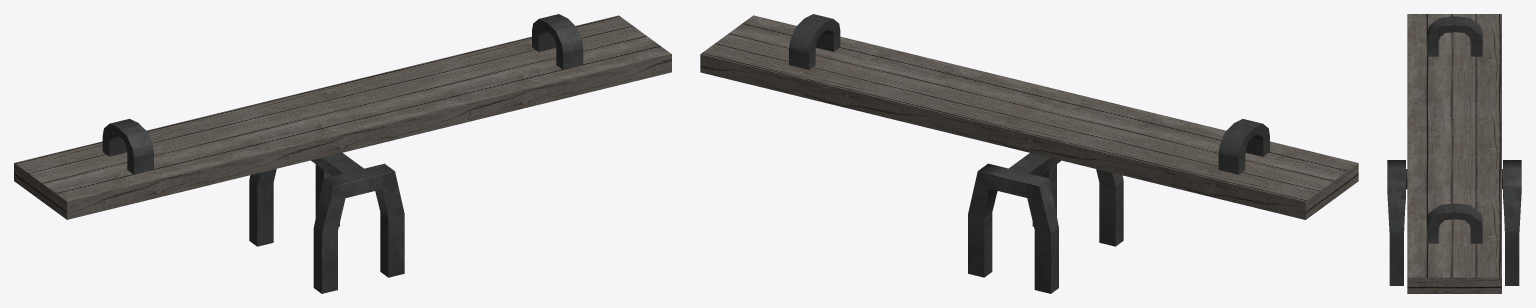
Rendered from seesaw.fbx.
The picture shows the model from 3 angles, left to right: view 1: azimuth 30°, elevation 25°; view 2: azimuth 150°, elevation 25°; view 3: azimuth 270°, elevation 25°; orthographic projection. The views are drawn at different scales.
Visible parts, largest first — view 1: pCube1, pCube4; view 2: pCube1, pCube4; view 3: pCube1, pCube4.
Boxes of the visible parts, bbox=[...] form: pCube1: bbox=[14, 14, 671, 219]; pCube4: bbox=[249, 152, 404, 293]; pCube1: bbox=[700, 14, 1358, 219]; pCube4: bbox=[968, 153, 1123, 293]; pCube1: bbox=[1407, 14, 1501, 293]; pCube4: bbox=[1387, 160, 1521, 285].
Size of the model in its own units: 5.15 by 1.47 by 1.11.
